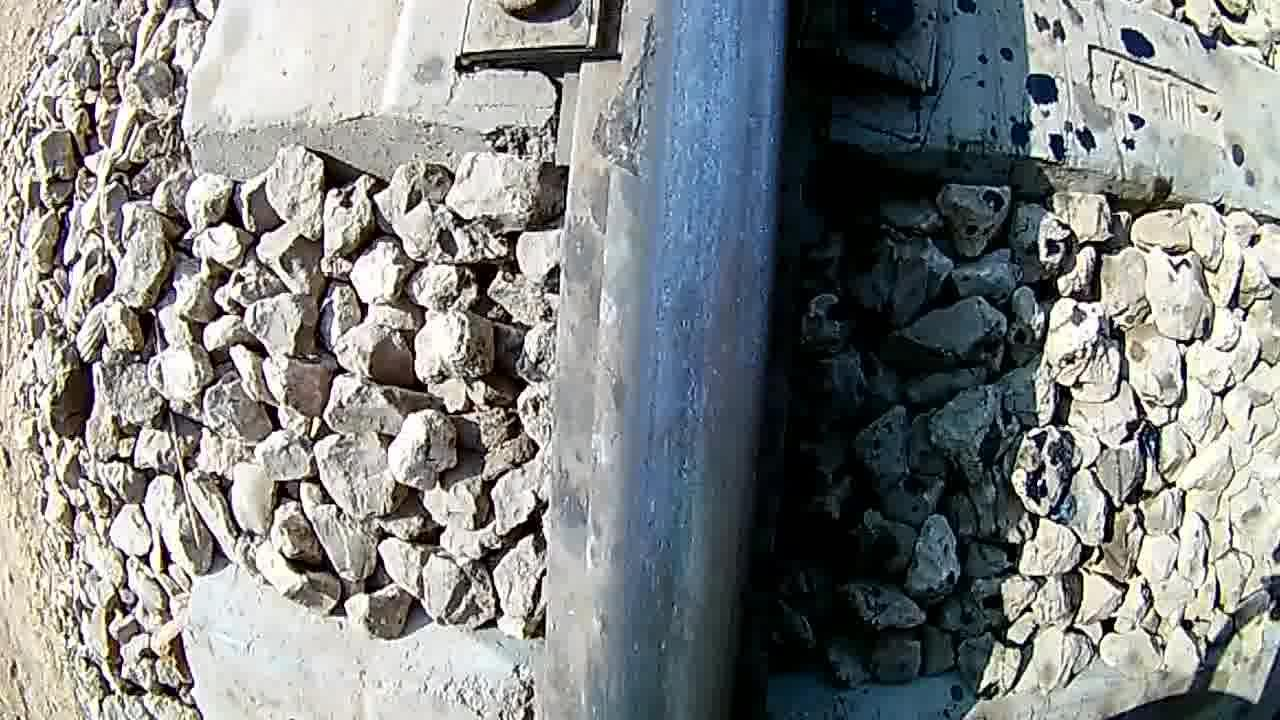crack: (580, 8, 674, 209)
